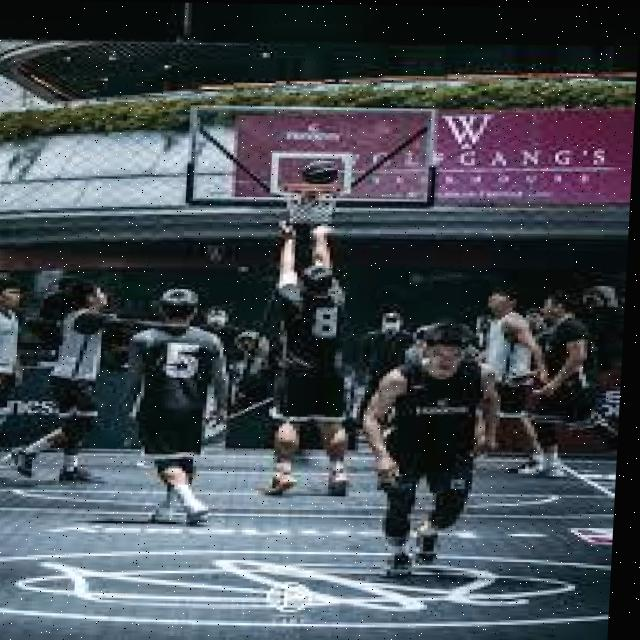basketball: (298, 158, 338, 187)
hoop: (277, 181, 342, 224)
